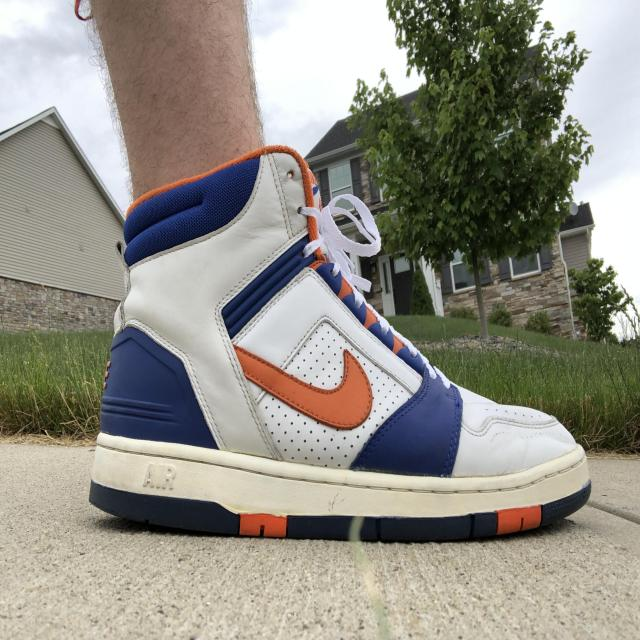shoes: (88, 147, 592, 542)
